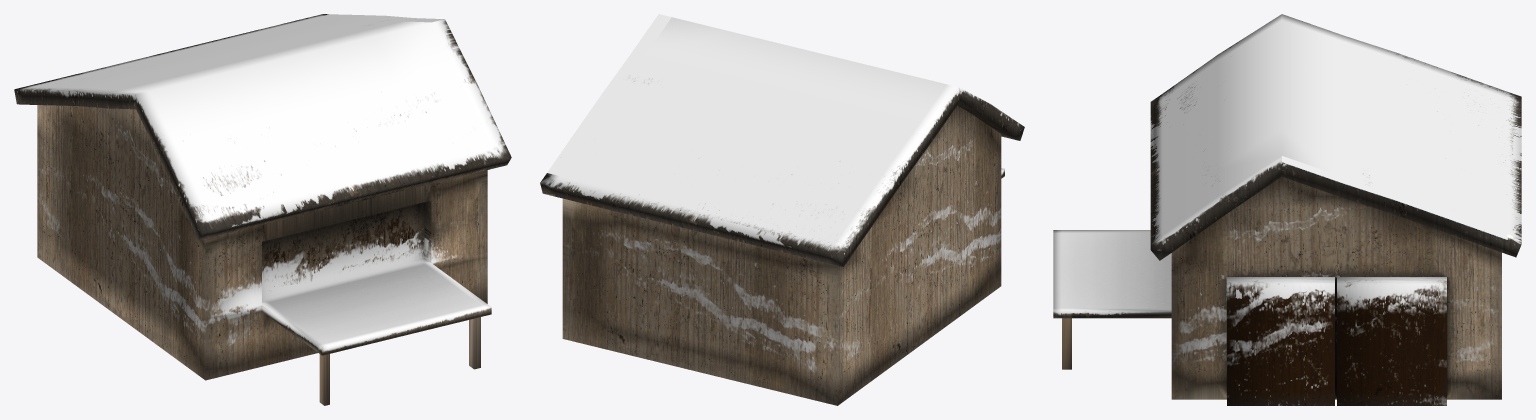
Rendered from sawmill.fbx.
3 renders of one model, left to right at view 1: azimuth 30°, elevation 25°; view 2: azimuth 150°, elevation 25°; view 3: azimuth 270°, elevation 25°, orthographic. The views are drawn at different scales.
Parts seen in each view (by area): view 1: Box010; view 2: Box010; view 3: Box010.
Part boxes in pixels (x1=…): Box010: x1=14, y1=14, x2=511, y2=405; Box010: x1=540, y1=14, x2=1024, y2=405; Box010: x1=1053, y1=14, x2=1521, y2=405.
Bounding box in the file's own units: 259 × 199 × 346.
